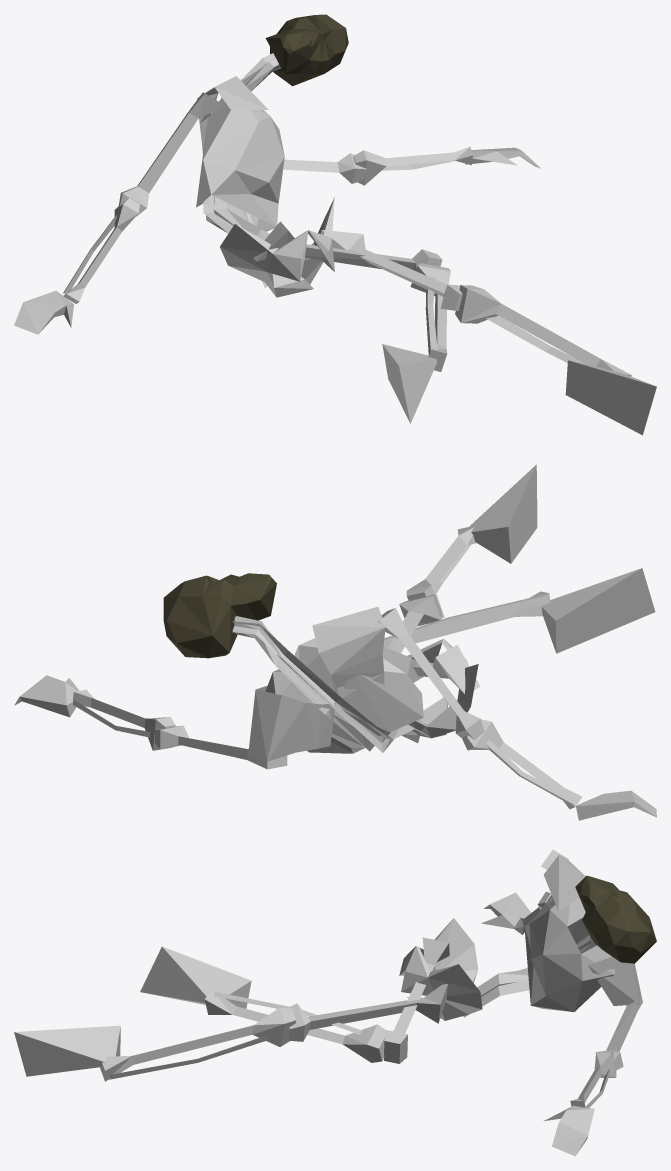
File: ORC_SKELETON_V2.OBJ
3 renders of one model, top to bottom at view 1: azimuth 30°, elevation 25°; view 2: azimuth 150°, elevation 25°; view 3: azimuth 270°, elevation 25°, orthographic. The views are drawn at different scales.
Visible parts, largest first — view 1: ORC_SKELETON_V2; view 2: ORC_SKELETON_V2; view 3: ORC_SKELETON_V2.
Boxes of the visible parts, bbox=[...] form: ORC_SKELETON_V2: bbox=[14, 14, 656, 435]; ORC_SKELETON_V2: bbox=[14, 464, 656, 820]; ORC_SKELETON_V2: bbox=[14, 849, 656, 1156].
Bounding box in the file's own units: 1.46 × 0.4789 × 1.58.
